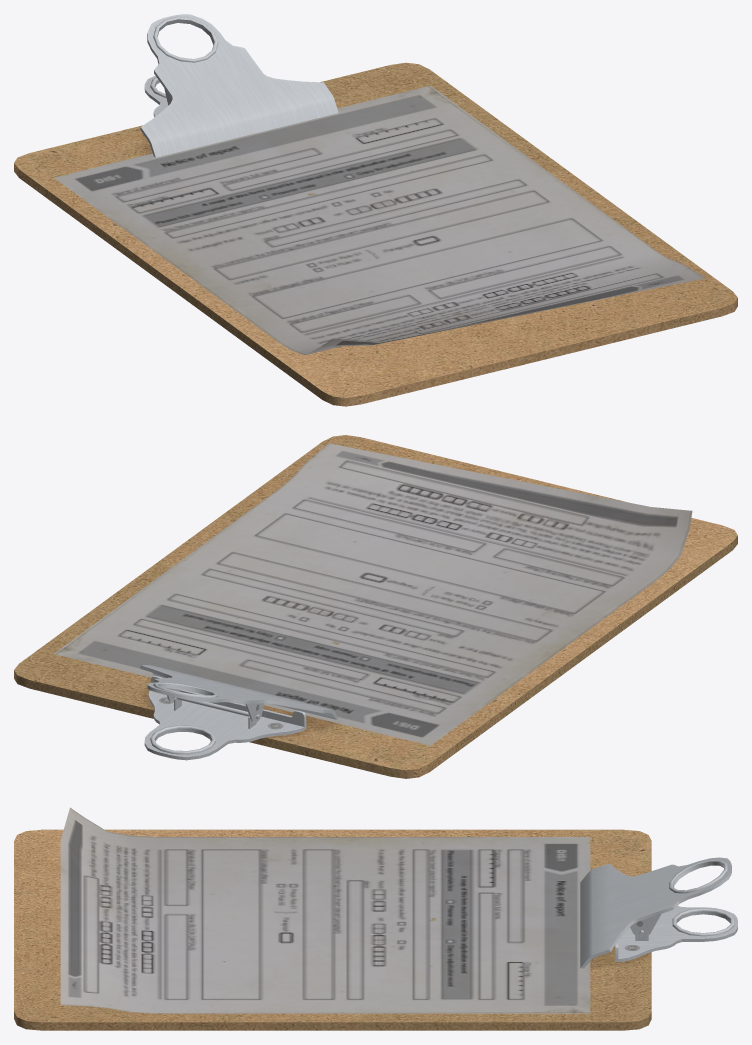
File: SM_Clipboard_Filled.fbx
The picture shows the model from 3 angles, top to bottom: view 1: azimuth 30°, elevation 25°; view 2: azimuth 150°, elevation 25°; view 3: azimuth 270°, elevation 25°; orthographic projection. The views are drawn at different scales.
Parts seen in each view (by area): view 1: SM_Clipboard_Filled_LOD0; view 2: SM_Clipboard_Filled_LOD0; view 3: SM_Clipboard_Filled_LOD0.
Part boxes in pixels (x1=…): SM_Clipboard_Filled_LOD0: x1=14, y1=14, x2=737, y2=406; SM_Clipboard_Filled_LOD0: x1=14, y1=435, x2=737, y2=778; SM_Clipboard_Filled_LOD0: x1=14, y1=807, x2=737, y2=1030.
Size of the model in its own units: 25 by 39.73 by 4.13.
Materials: 1 (1 with a texture image).
